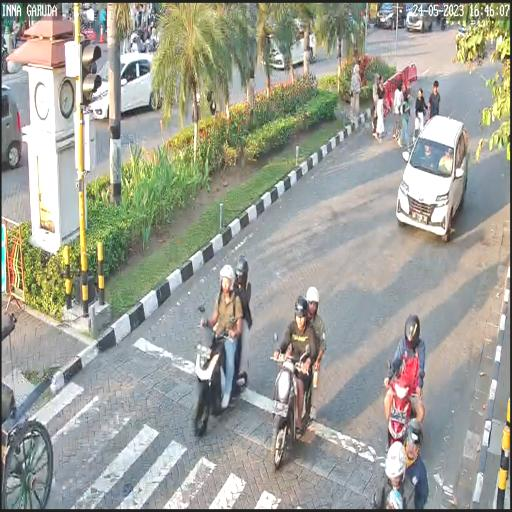mobil: (396, 111, 468, 245)
motor: (268, 324, 327, 476), (191, 306, 252, 440), (382, 359, 430, 442)
